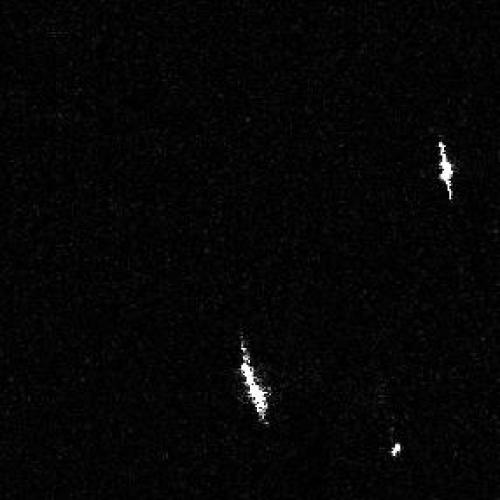ship: (237, 336, 271, 422), (435, 137, 458, 202), (388, 441, 404, 460)
